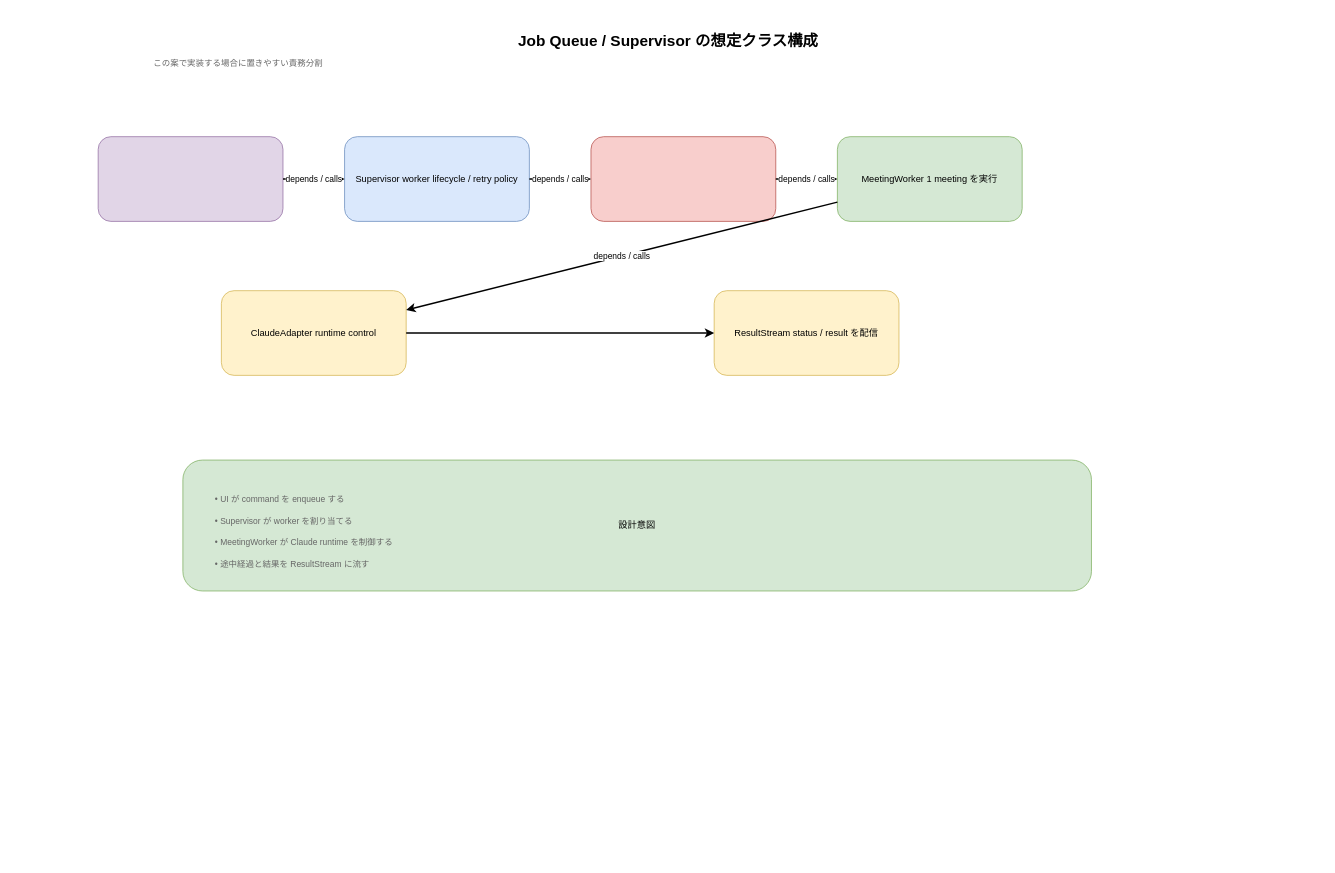
This 1335x873 diagram has some shape labels left out. The centre of each missing label's shape, as x and y in pixels:
"CommandApi meeting command 受け口" goes at (x=190, y=178).
"CommandQueue enqueue / dispatch / backpressure" goes at (x=683, y=178).
